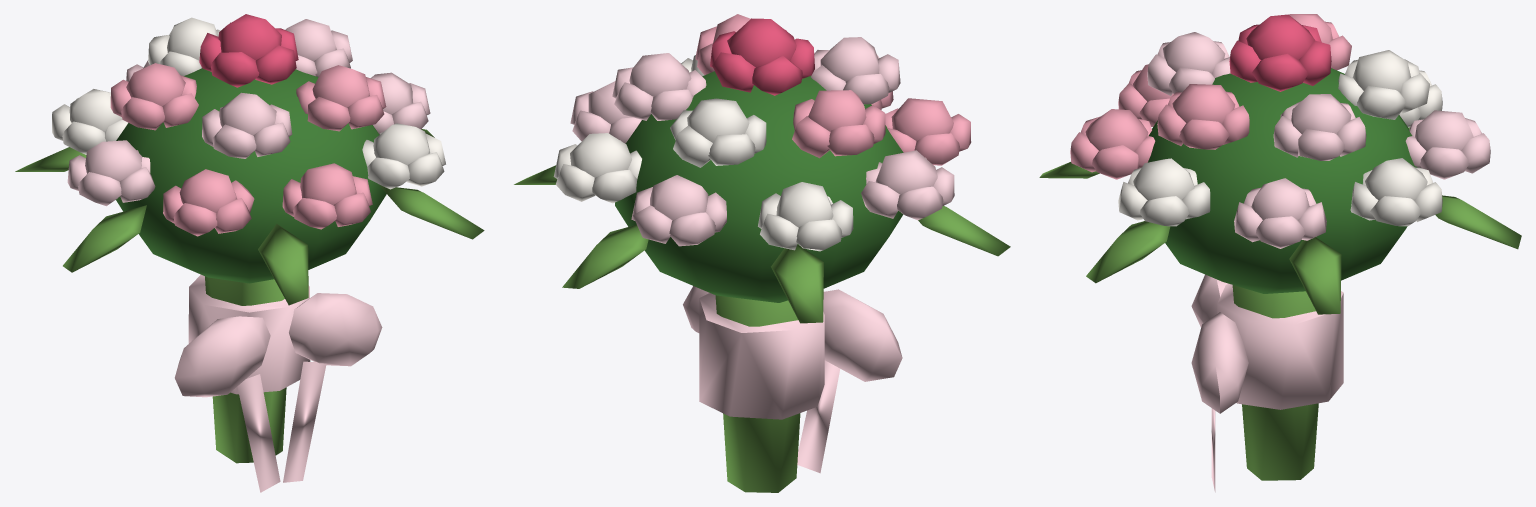
The model's file is buque.glb.
3 renders of one model, left to right at view 1: azimuth 30°, elevation 25°; view 2: azimuth 150°, elevation 25°; view 3: azimuth 270°, elevation 25°, orthographic. The views are drawn at different scales.
Parts seen in each view (by area): view 1: Buque; view 2: Buque; view 3: Buque.
Boxes of the visible parts, x1=… form: Buque: x1=15, y1=14, x2=484, y2=492; Buque: x1=514, y1=14, x2=1010, y2=492; Buque: x1=1039, y1=14, x2=1521, y2=492.
Size of the model in its own units: 0.3697 by 0.3814 by 0.3599.
